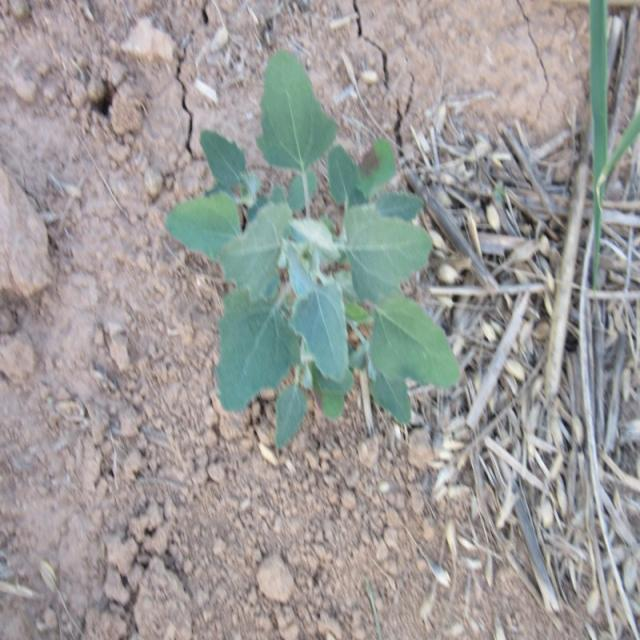ca: (170, 52, 458, 446)
